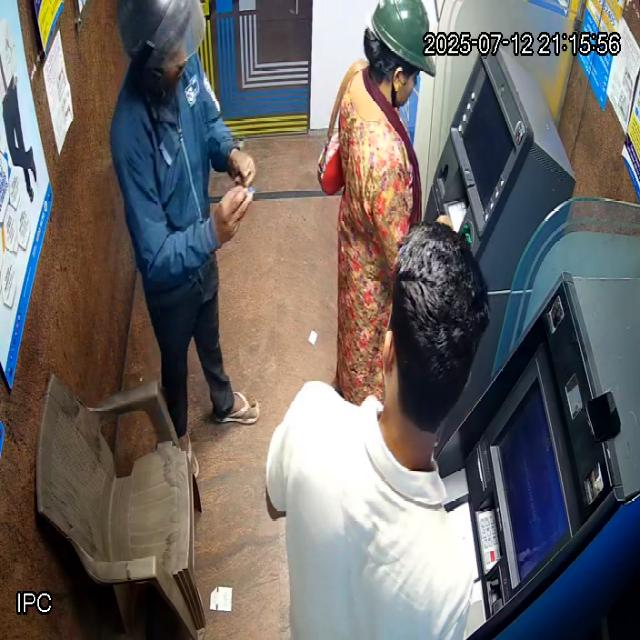helmet: (117, 0, 206, 90), (363, 0, 434, 107)
no_helmet: (378, 221, 489, 472)
